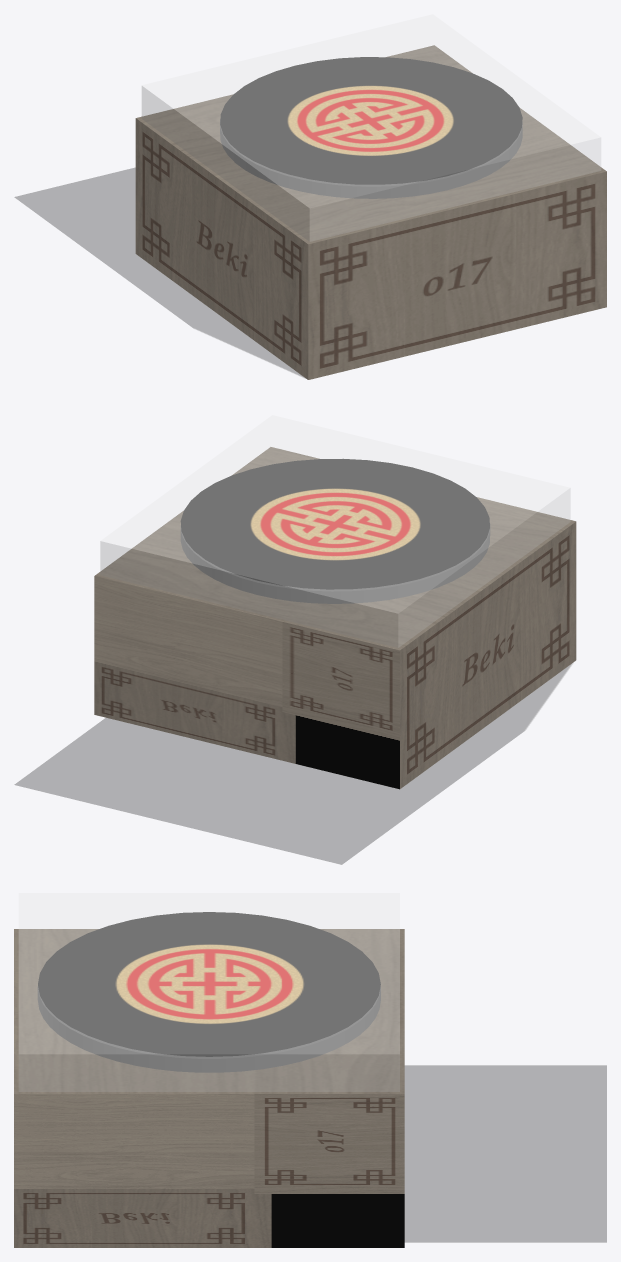
The model's file is block_19.glb.
The picture shows the model from 3 angles, top to bottom: view 1: azimuth 30°, elevation 25°; view 2: azimuth 150°, elevation 25°; view 3: azimuth 270°, elevation 25°; orthographic projection. The views are drawn at different scales.
Visible parts, largest first — view 1: hitObj, Object3D, block; view 2: hitObj, Object3D, block; view 3: hitObj, Object3D, block.
Boxes of the visible parts, x1,y1,x2,y2 form: hitObj: (135, 14, 606, 379); Object3D: (220, 57, 522, 198); block: (15, 168, 303, 377); hitObj: (94, 415, 576, 789); Object3D: (180, 458, 490, 603); block: (15, 663, 572, 864); hitObj: (14, 893, 404, 1247); Object3D: (37, 912, 380, 1072); block: (405, 1065, 606, 1242).
Bounding box in the file's own units: 11.37 × 5.57 × 15.55.
5 materials, 3 textured.
